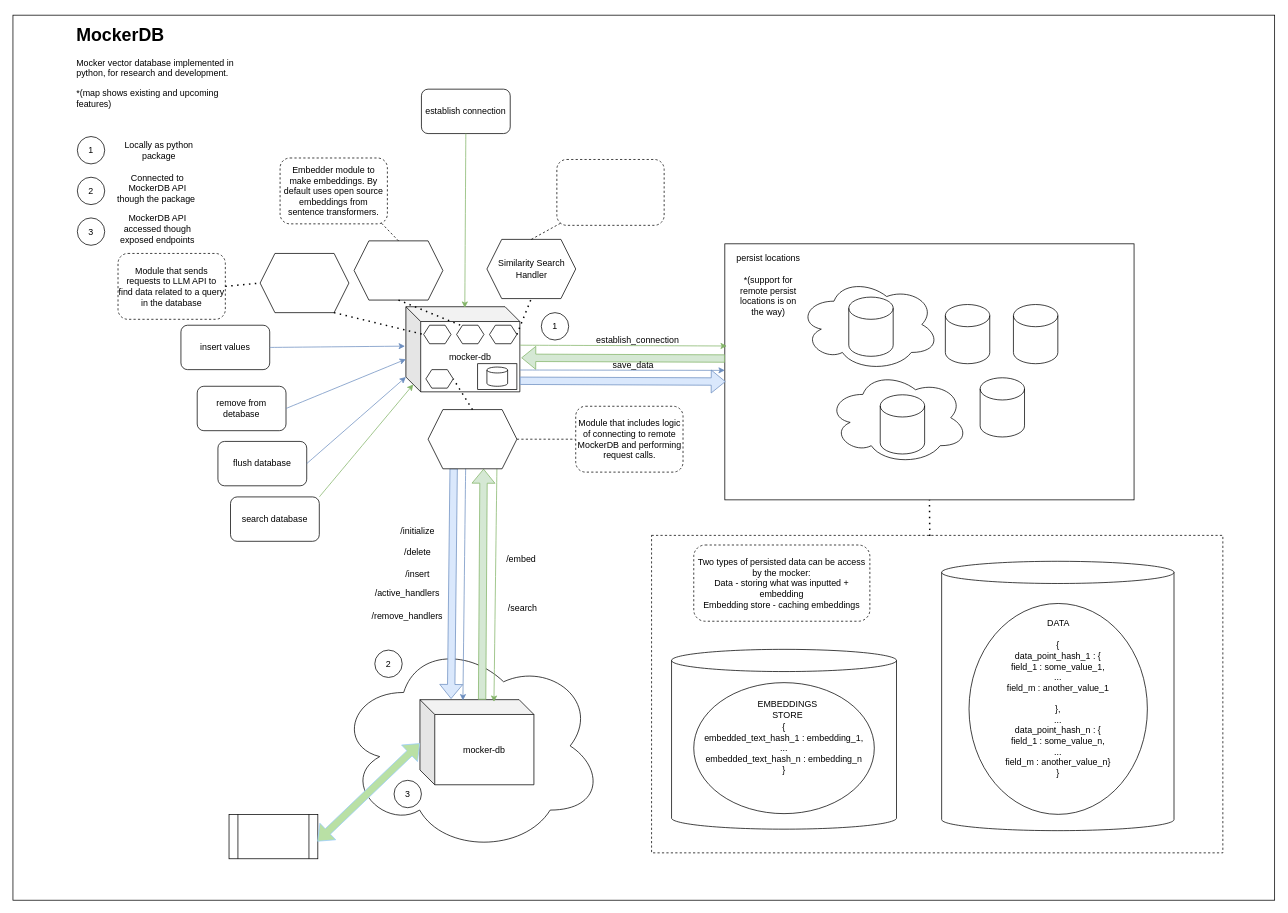
The diagram is 1288 pixels wide and 913 high, and some of its shapes have lost their labels. The centre of each missing label's shape, as x and y in pixels:
"Embedder" belongs at [398,270].
"host" belongs at [273,836].
"LLM Connector" belongs at [304,283].
"MockerDB Connector" belongs at [472,439].
"Module that implements similarity search algorithms." belongs at [610,192].
